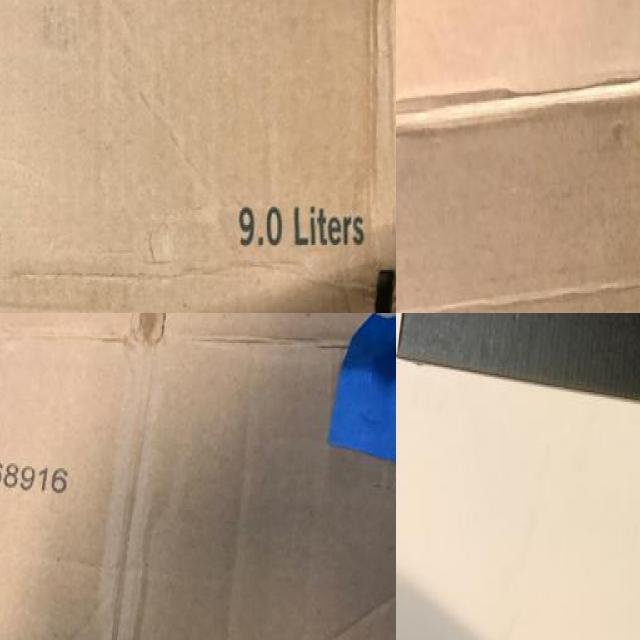class_name: (0, 313, 396, 640), (0, 0, 396, 313), (396, 0, 640, 313), (396, 313, 640, 459)
